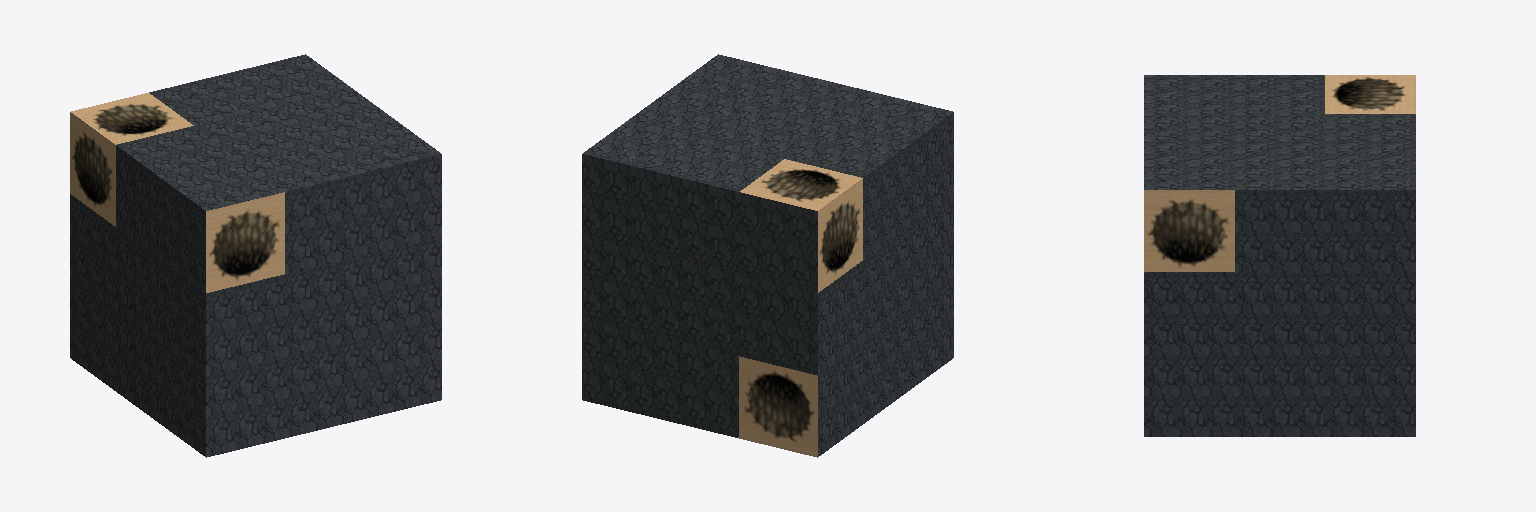
3 views of the same model, side by side, from view 1: azimuth 30°, elevation 25°; view 2: azimuth 150°, elevation 25°; view 3: azimuth 270°, elevation 25° (orthographic).
Parts seen in each view (by area): view 1: hole; view 2: hole; view 3: hole.
Boxes of the visible parts, x1,y1,x2,y2 form: hole: [70, 54, 441, 457]; hole: [582, 54, 953, 457]; hole: [1144, 75, 1415, 436].
Bounding box in the file's own units: 1 × 1 × 1.
Materials: 1 (1 with a texture image).